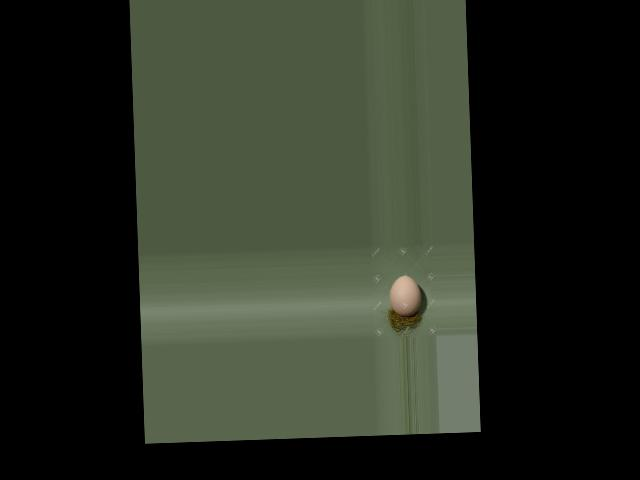egg: (389, 274, 421, 316)
